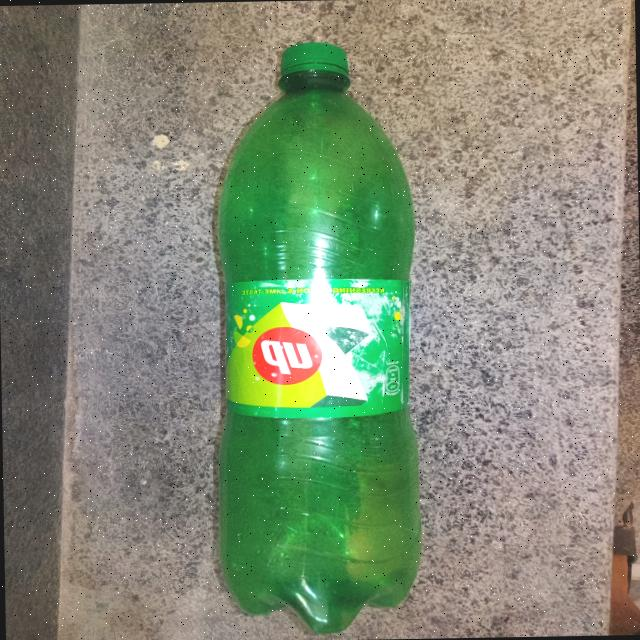bottle: (188, 31, 432, 632)
cap: (265, 36, 359, 88)
label: (219, 270, 414, 436)
